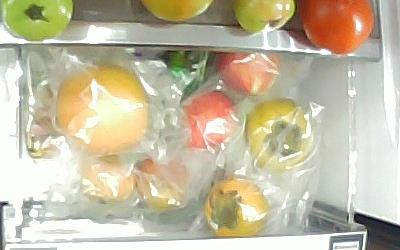apple_vinyl: (184, 90, 236, 149), (215, 51, 280, 97)
grapefruit_vinyl: (55, 66, 148, 152)
persimmon_vinyl: (245, 98, 314, 171), (205, 177, 271, 238)
prune_vinyl: (133, 157, 190, 212), (84, 157, 135, 203)
